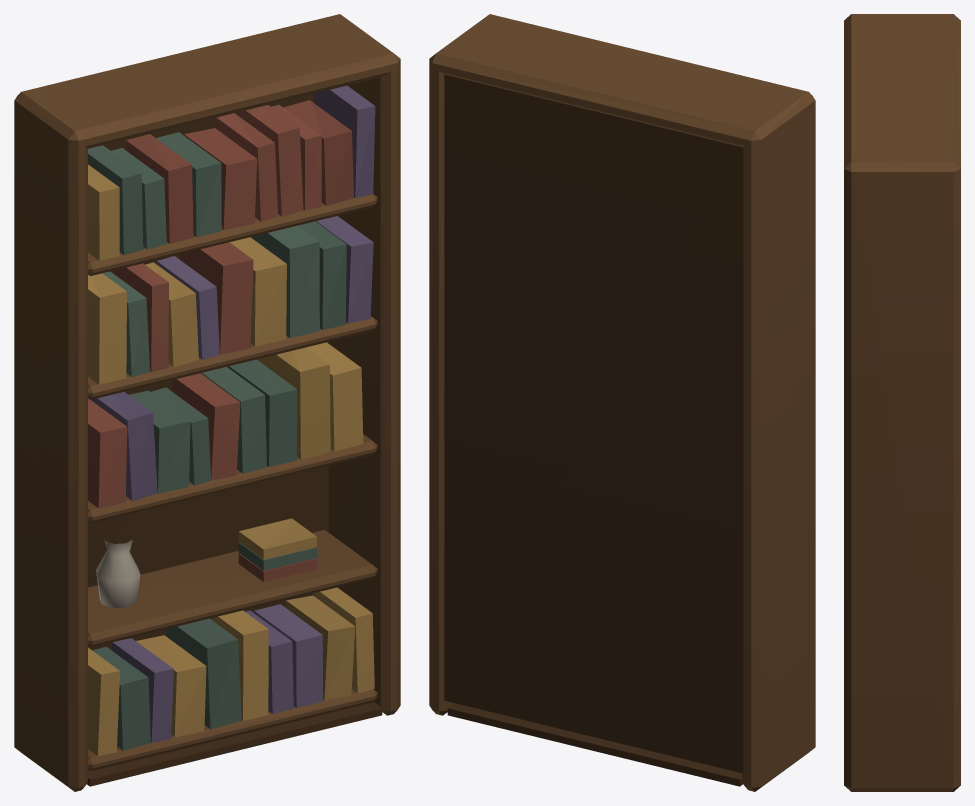
The model's file is bookshelf.glb.
The picture shows the model from 3 angles, left to right: view 1: azimuth 30°, elevation 25°; view 2: azimuth 150°, elevation 25°; view 3: azimuth 270°, elevation 25°; orthographic projection. The views are drawn at different scales.
Parts seen in each view (by area): view 1: bookshelf; view 2: bookshelf; view 3: bookshelf.
Boxes of the visible parts, x1=… form: bookshelf: x1=14, y1=14, x2=400, y2=791; bookshelf: x1=429, y1=14, x2=815, y2=791; bookshelf: x1=844, y1=14, x2=960, y2=791.
Bounding box in the file's own units: 1 × 1.9 × 0.32.
